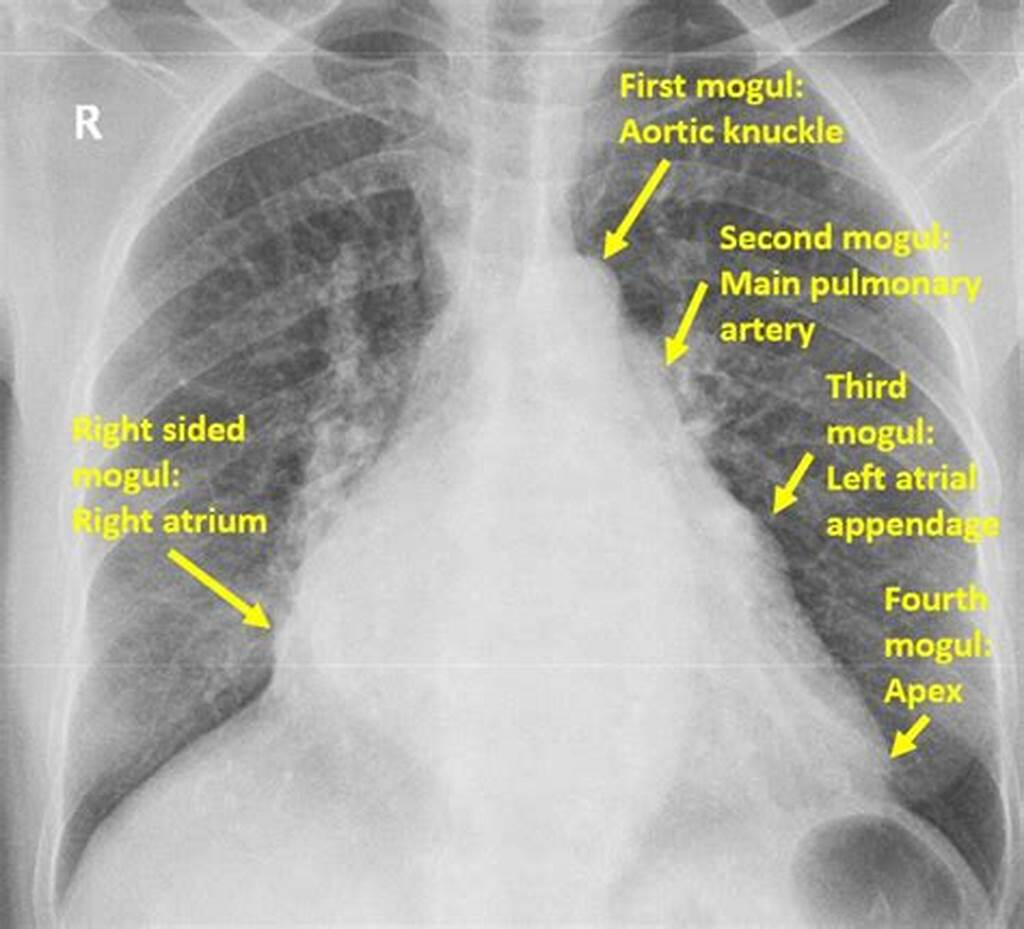telestration: (818, 366, 1007, 548), (716, 224, 979, 338), (68, 405, 278, 539), (616, 72, 844, 148), (878, 576, 990, 710), (158, 538, 271, 634), (600, 155, 675, 266), (659, 278, 706, 375), (767, 448, 818, 518), (884, 705, 930, 772)
